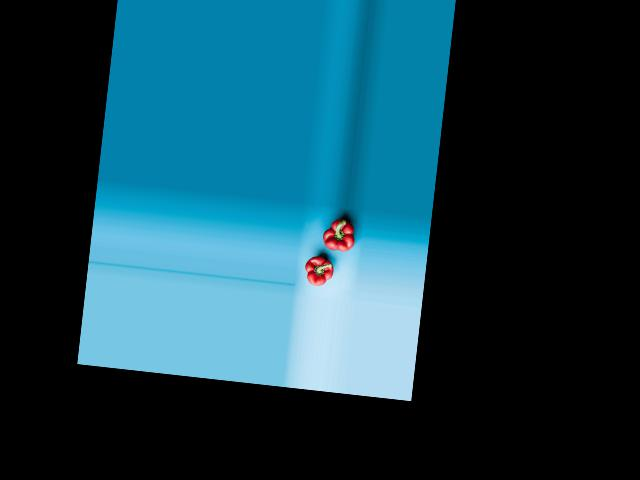bell_pepper: (317, 213, 356, 259)
